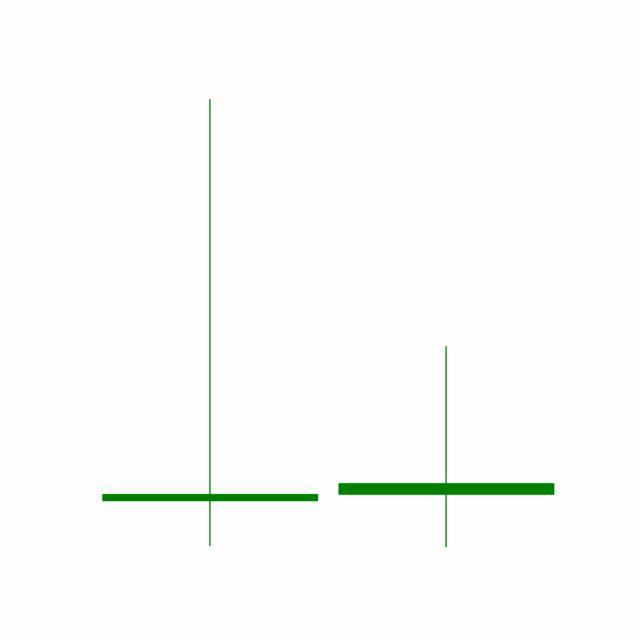Spinning Top: (328, 345, 566, 551)
